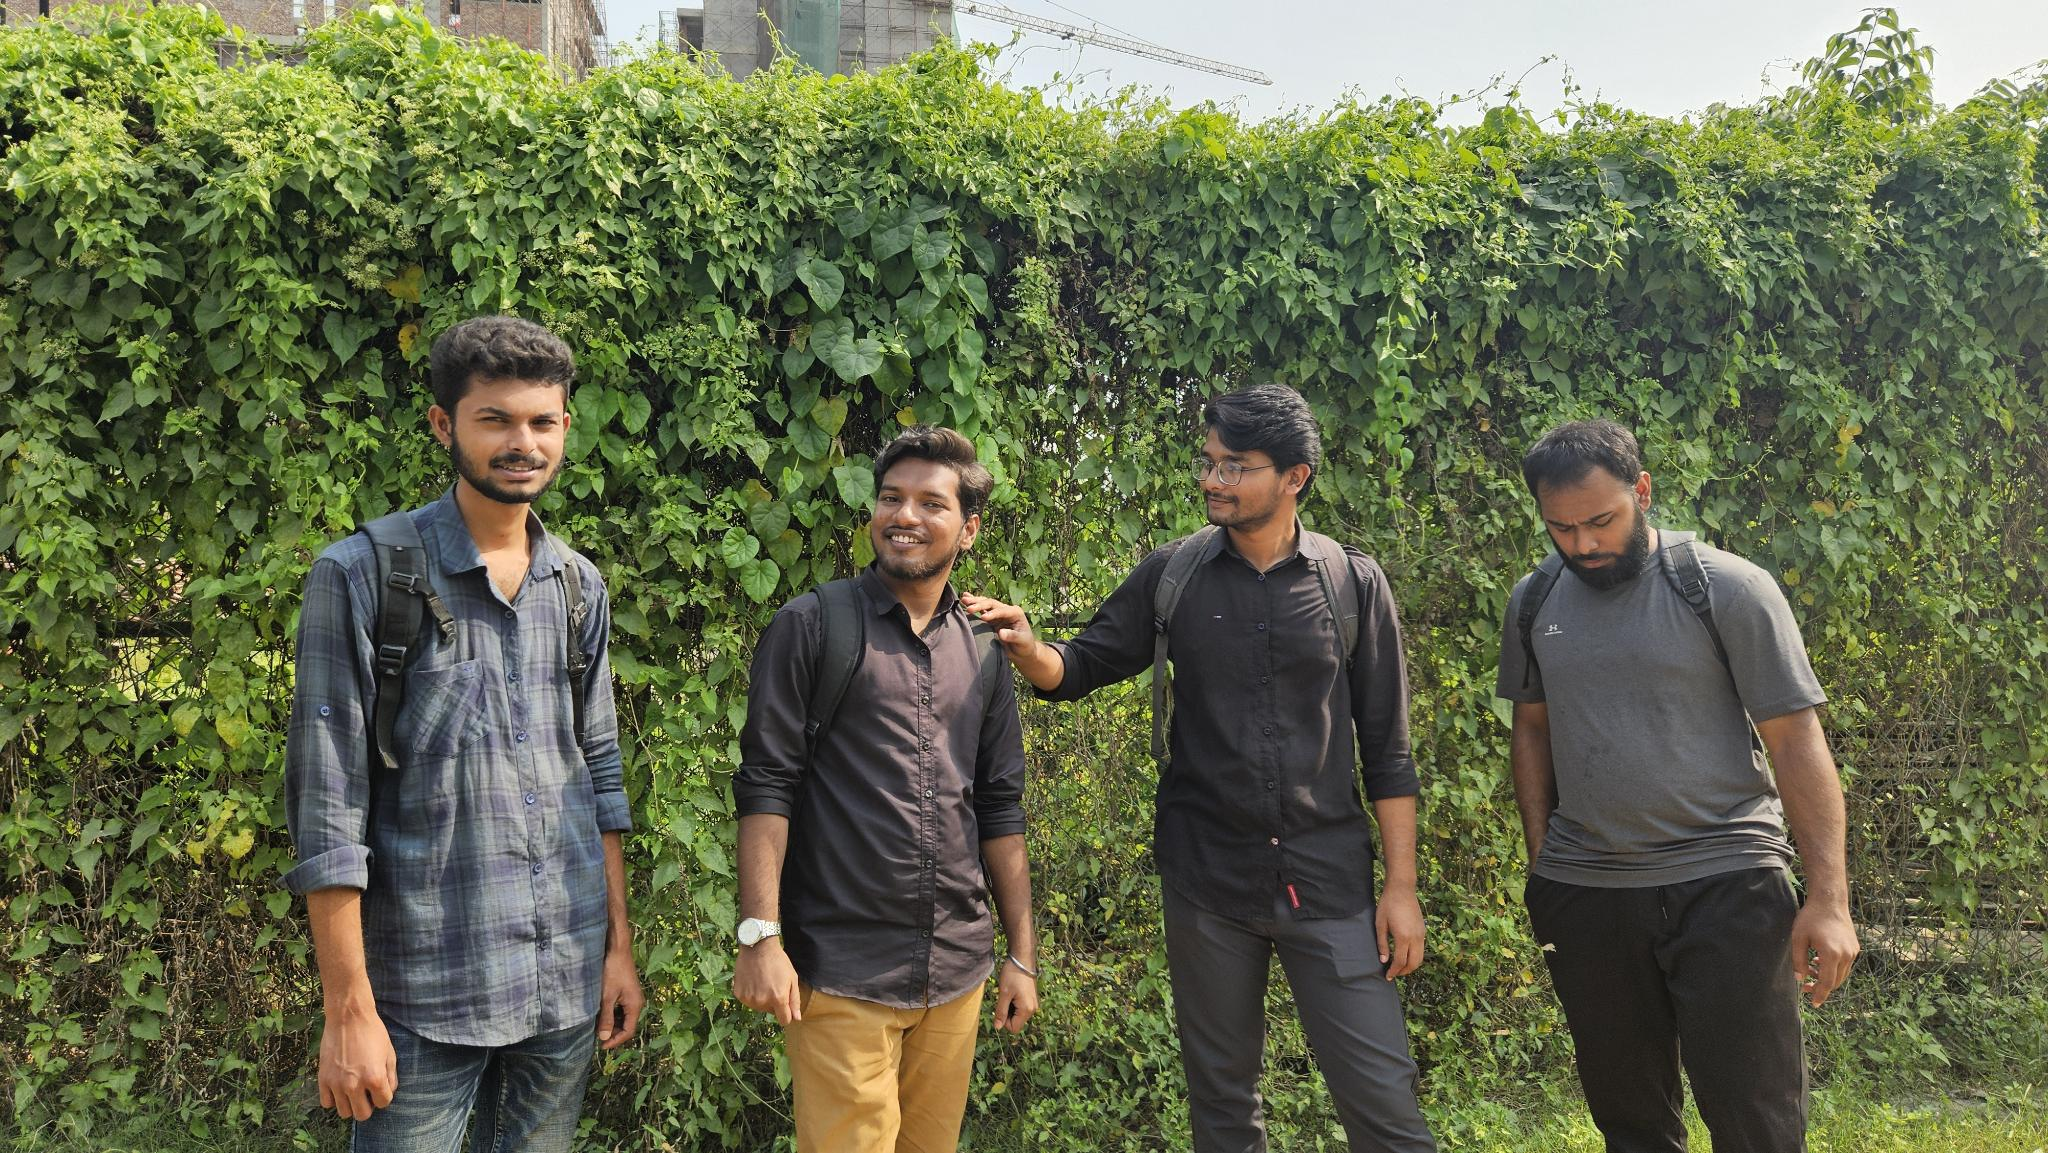nonSmoker: (961, 385, 1439, 1153), (277, 315, 646, 1153), (1495, 418, 1860, 1153), (731, 429, 1037, 1153)
